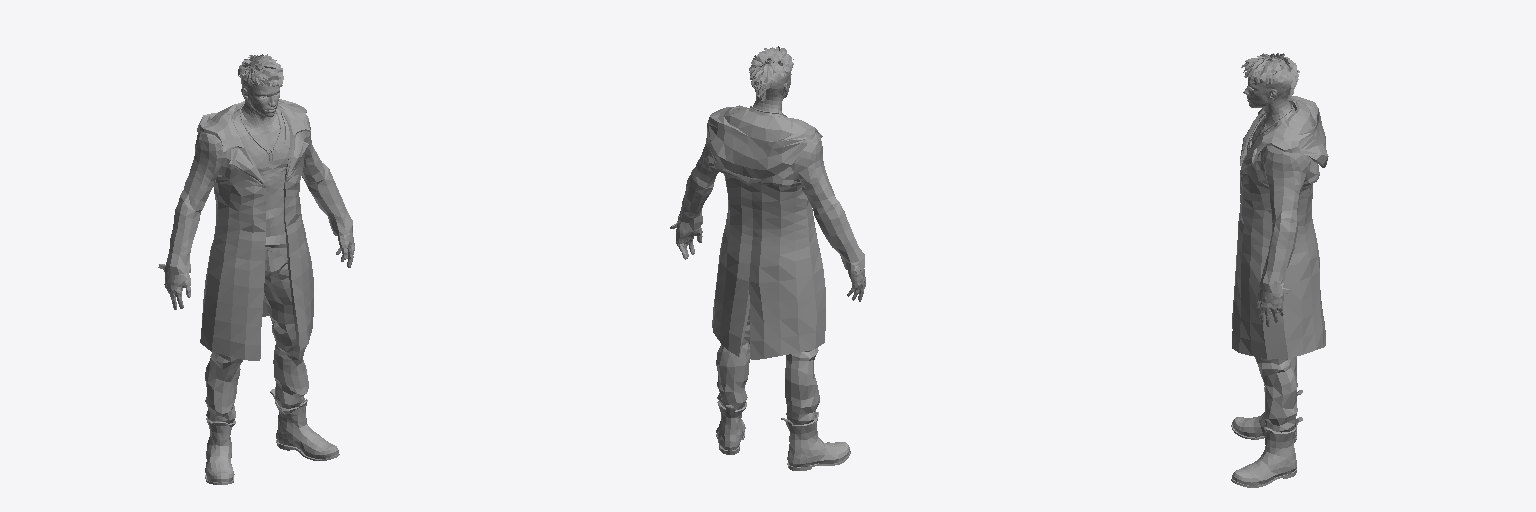
The picture shows the model from 3 angles: view 1: azimuth 30°, elevation 25°; view 2: azimuth 150°, elevation 25°; view 3: azimuth 270°, elevation 25°; orthographic projection.
Visible parts, largest first — view 1: rdmobj01.004, rdmobj02.004, rdmobj00.004, rdmobj04.004, rdmobj07.004, rdmobj03.004; view 2: rdmobj01.004, rdmobj02.004, rdmobj07.004, rdmobj04.004, rdmobj00.004; view 3: rdmobj01.004, rdmobj02.004, rdmobj04.004, rdmobj07.004, rdmobj00.004.
Boxes of the visible parts, x1,y1,x2,y2 form: rdmobj01.004: [158, 99, 352, 360]; rdmobj02.004: [205, 250, 339, 484]; rdmobj00.004: [164, 104, 354, 297]; rdmobj04.004: [234, 66, 282, 131]; rdmobj07.004: [238, 54, 283, 87]; rdmobj03.004: [171, 109, 353, 309]; rdmobj01.004: [670, 105, 864, 359]; rdmobj02.004: [716, 309, 850, 470]; rdmobj07.004: [749, 46, 793, 101]; rdmobj04.004: [747, 73, 791, 116]; rdmobj00.004: [676, 106, 865, 289]; rdmobj01.004: [1232, 96, 1328, 359]; rdmobj02.004: [1231, 357, 1302, 487]; rdmobj04.004: [1243, 61, 1292, 130]; rdmobj07.004: [1241, 53, 1299, 98]; rdmobj00.004: [1247, 102, 1292, 315].
Bounding box in the file's own units: 2.89 × 5.95 × 1.3.